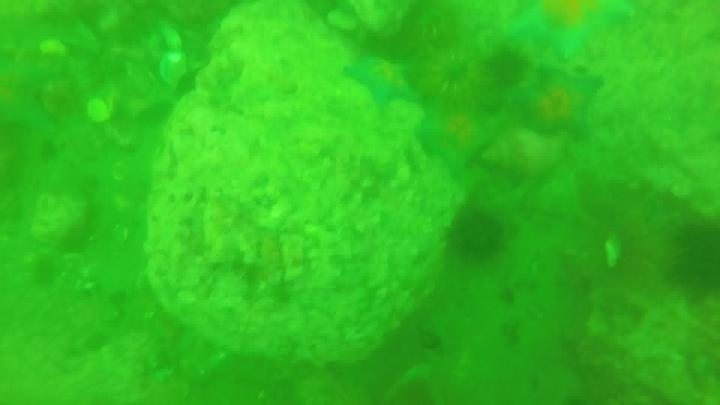echinus: (510, 66, 604, 142), (415, 101, 496, 173), (662, 217, 719, 302), (416, 46, 489, 109), (445, 205, 509, 264), (397, 1, 465, 54), (484, 46, 530, 89), (29, 254, 60, 288)
starfish: (497, 1, 629, 62), (511, 70, 605, 146), (414, 101, 496, 173), (1, 54, 62, 139), (342, 53, 423, 113)
